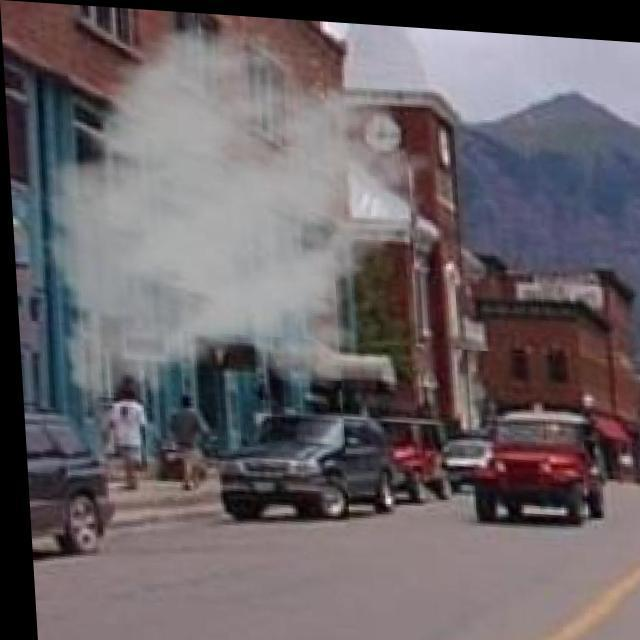Smoke: (37, 10, 452, 428)
